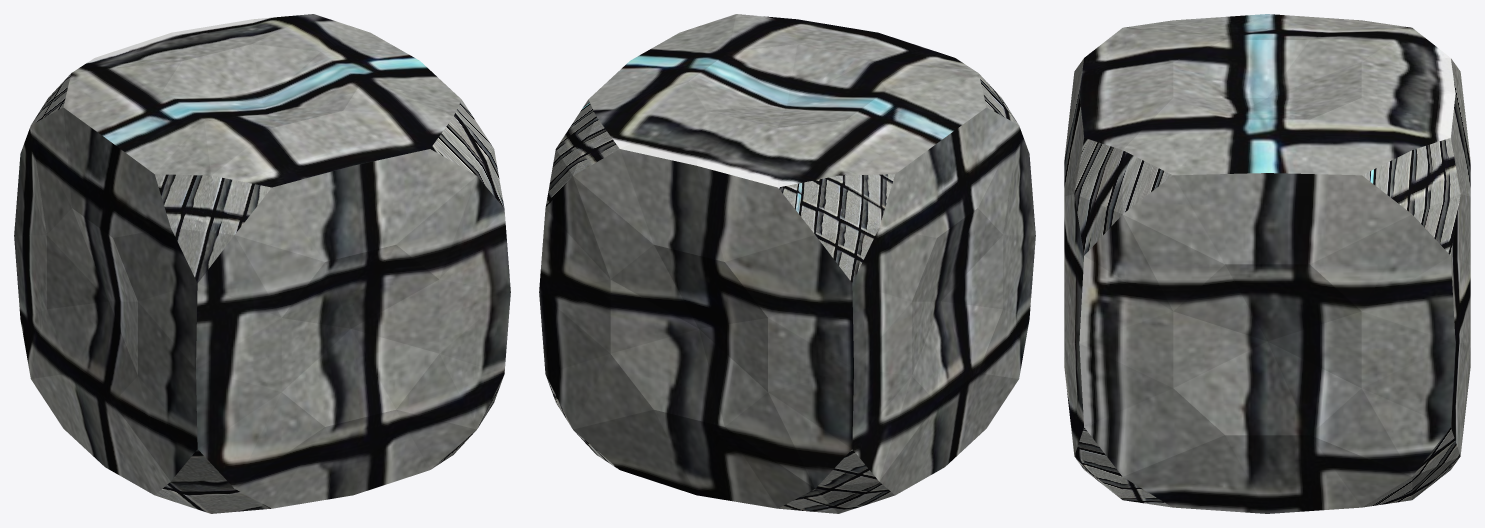
File: X_Rock.fbx
The picture shows the model from 3 angles, left to right: view 1: azimuth 30°, elevation 25°; view 2: azimuth 150°, elevation 25°; view 3: azimuth 270°, elevation 25°; orthographic projection. The views are drawn at different scales.
Parts seen in each view (by area): view 1: Rock; view 2: Rock; view 3: Rock.
Part boxes in pixels (x1=…): Rock: x1=14, y1=14, x2=510, y2=513; Rock: x1=539, y1=14, x2=1035, y2=513; Rock: x1=1064, y1=14, x2=1470, y2=513.
Size of the model in its own units: 99.72 by 99.72 by 99.72.
